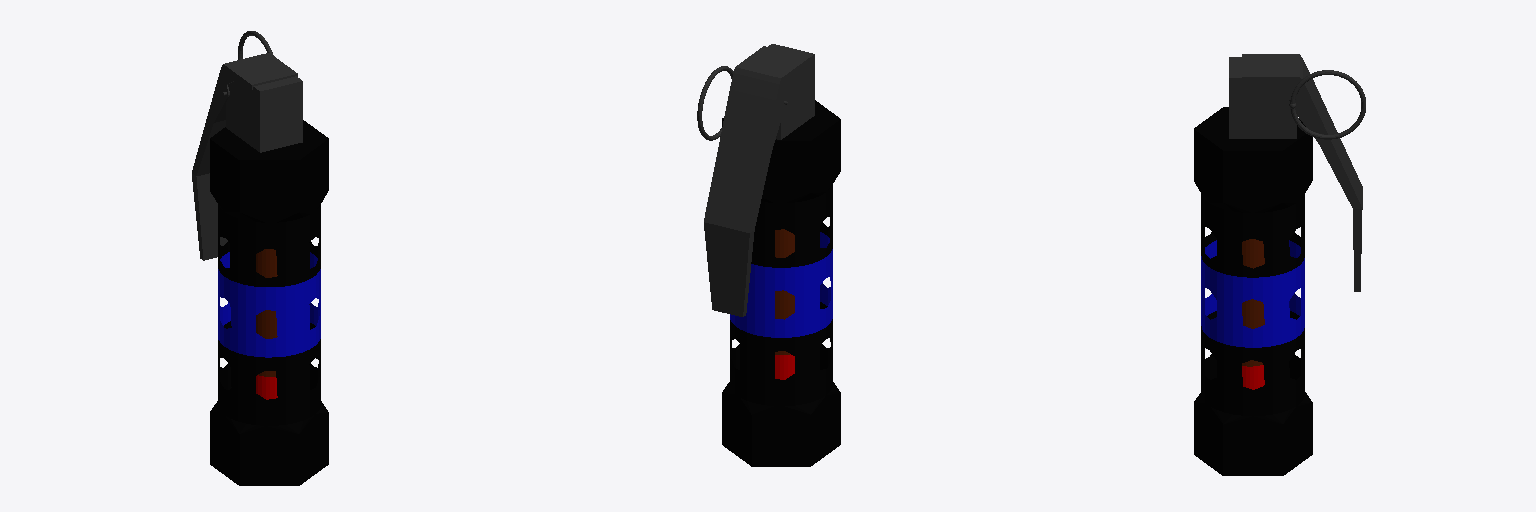
File: Flashbang.obj
The picture shows the model from 3 angles: view 1: azimuth 30°, elevation 25°; view 2: azimuth 150°, elevation 25°; view 3: azimuth 270°, elevation 25°; orthographic projection.
Parts seen in each view (by area): view 1: Flashbang, Flashbang_Spoon; view 2: Flashbang, Flashbang_Spoon, Flashbang_Pin; view 3: Flashbang, Flashbang_Spoon, Flashbang_Pin.
Boxes of the visible parts, x1=… form: Flashbang: x1=210, y1=76, x2=328, y2=485; Flashbang_Spoon: x1=192, y1=53, x2=297, y2=260; Flashbang: x1=722, y1=44, x2=840, y2=466; Flashbang_Spoon: x1=704, y1=46, x2=809, y2=316; Flashbang_Pin: x1=697, y1=66, x2=788, y2=140; Flashbang: x1=1194, y1=57, x2=1312, y2=475; Flashbang_Spoon: x1=1242, y1=54, x2=1362, y2=291; Flashbang_Pin: x1=1289, y1=70, x2=1365, y2=139.
Bounding box in the file's own units: 0.8463 × 3.58 × 1.41.